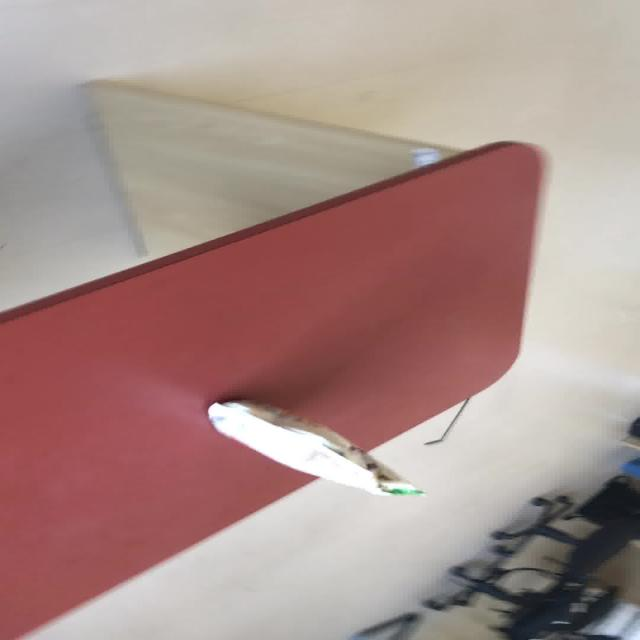corn flakes: (349, 471, 637, 638), (204, 398, 424, 497)
